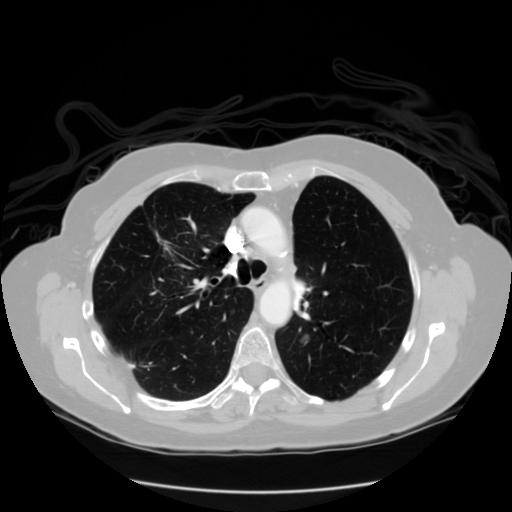nodule: (298, 332, 312, 346)
